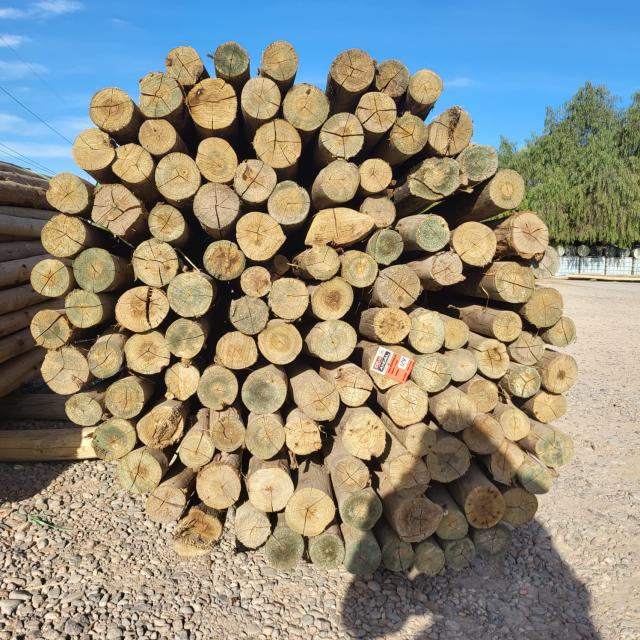package: (33, 40, 578, 576)
